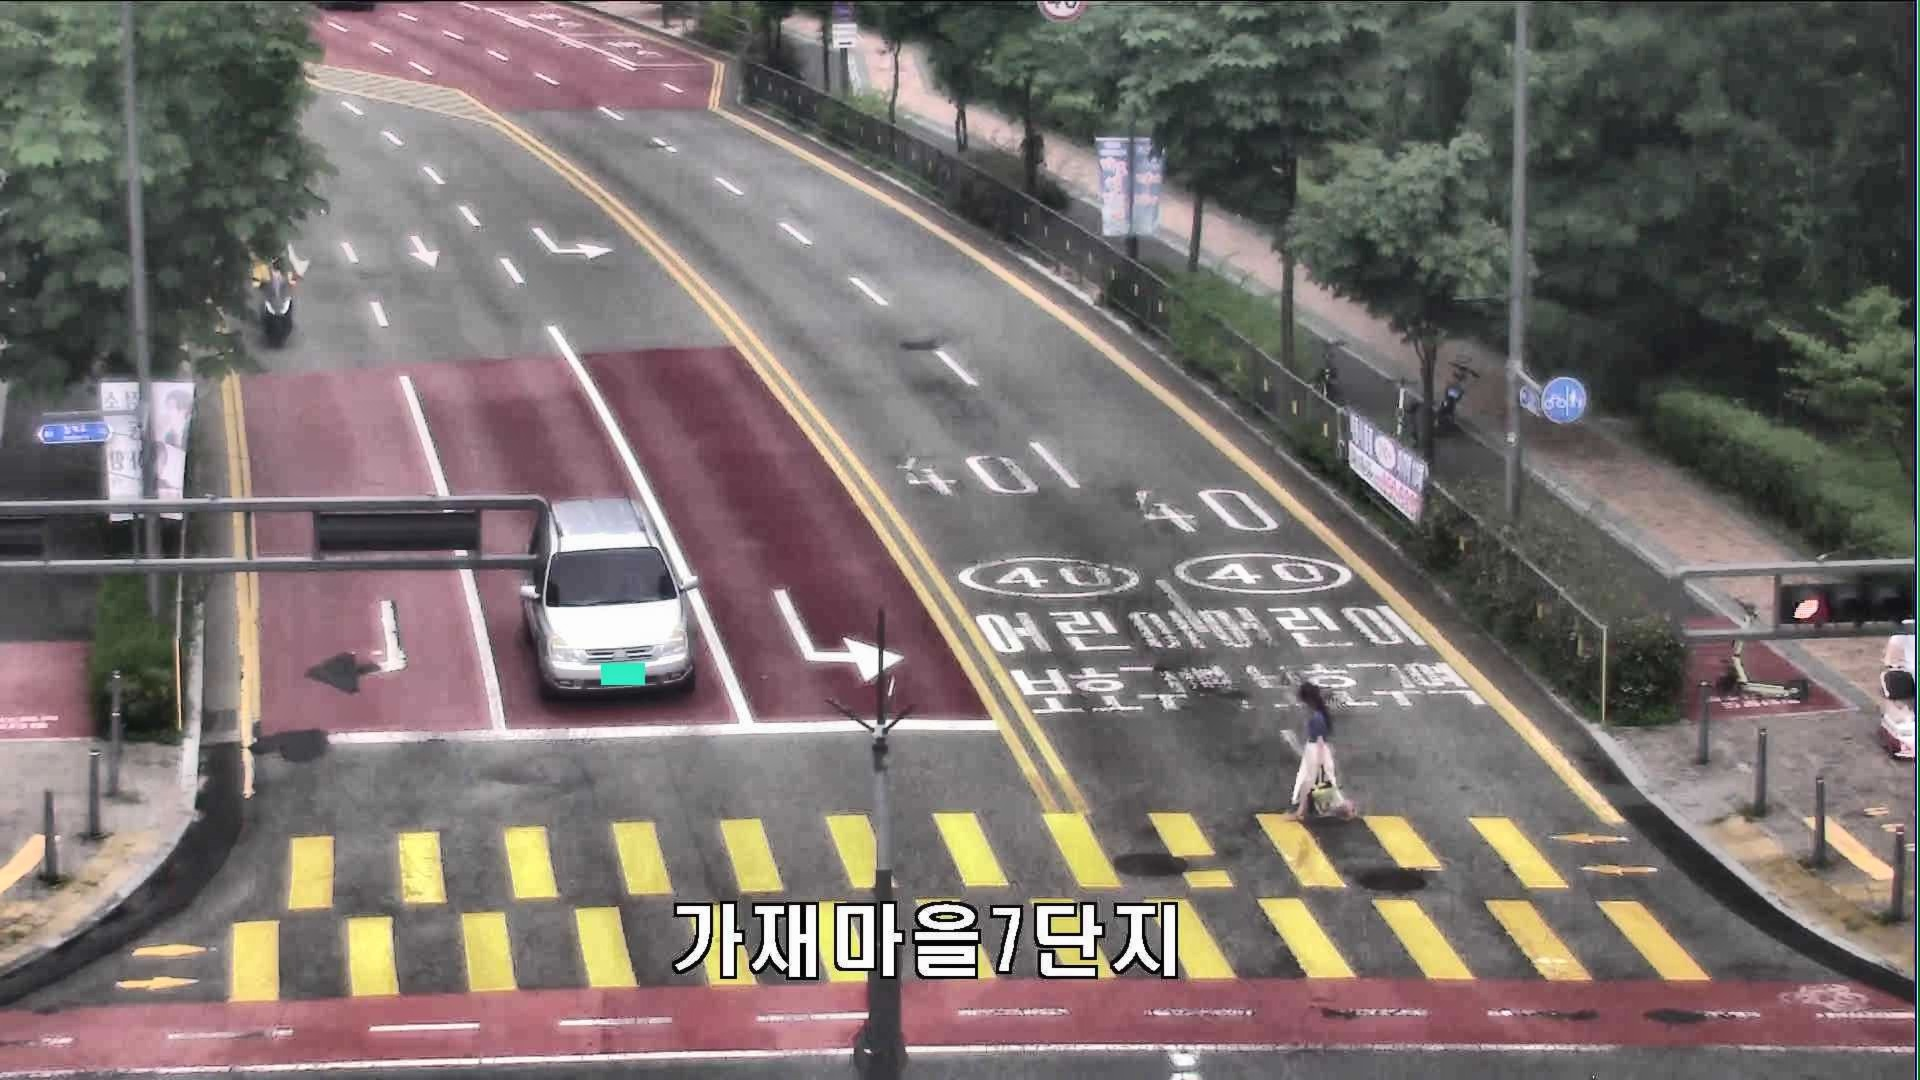crosswalk: (1284, 676, 1356, 827)
